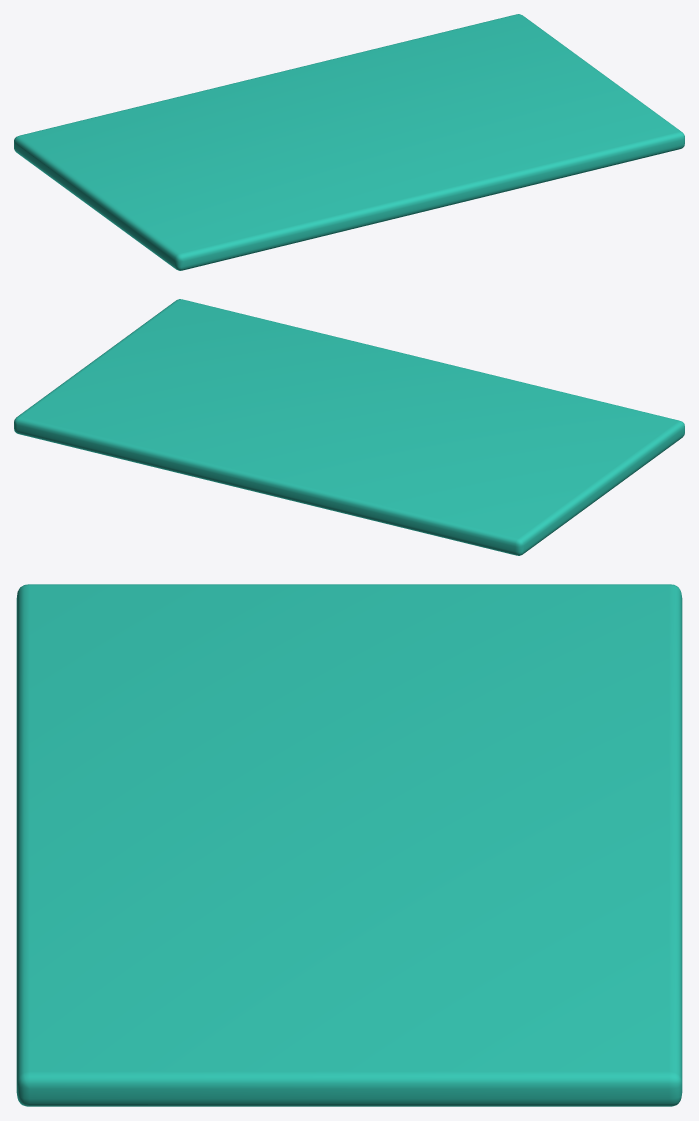
The model's file is flat_dough.FBX.
3 renders of one model, top to bottom at view 1: azimuth 30°, elevation 25°; view 2: azimuth 150°, elevation 25°; view 3: azimuth 270°, elevation 25°, orthographic. The views are drawn at different scales.
Visible parts, largest first — view 1: flat_dough; view 2: flat_dough; view 3: flat_dough.
Boxes of the visible parts, <box> form: flat_dough: <box>14,14,684,270</box>; flat_dough: <box>14,299,684,555</box>; flat_dough: <box>16,584,682,1106</box>.
Size of the model in its own units: 89.91 by 2.83 by 50.89.
